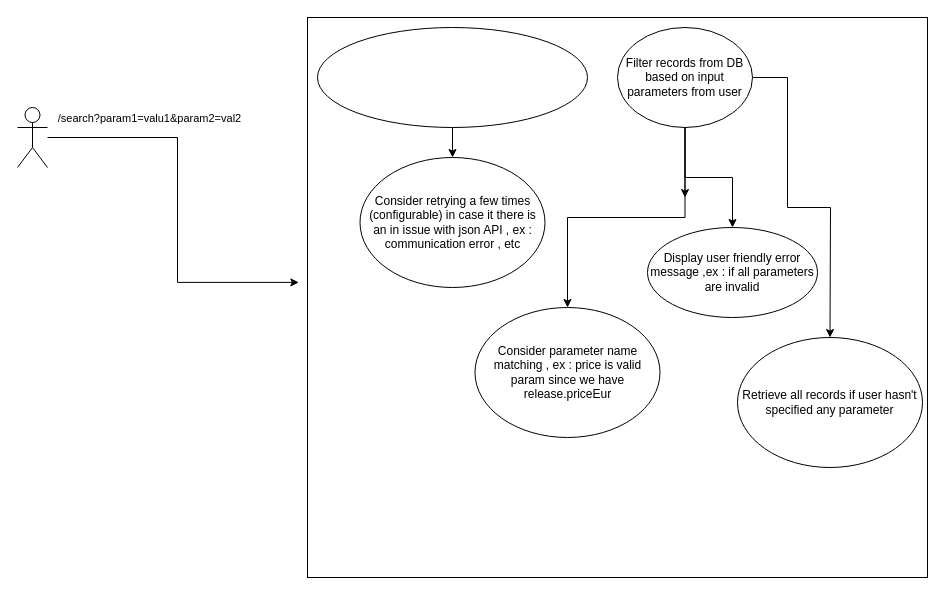
Image size: 945x595. Some labels were removed from this diagram. Here are the shapes that lost their labels. From the top down, the centre of each, then its label:
point (452, 77): Fetch json from API and store in collection during application startup
point (32, 137): Actor
